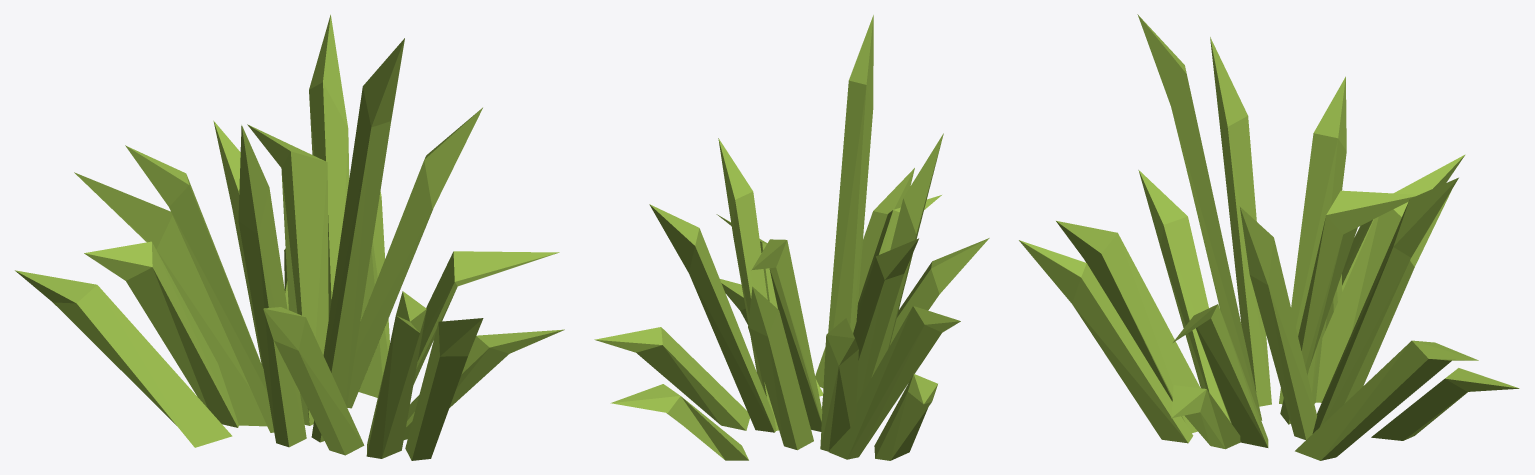
The model's file is Grass.fbx.
3 renders of one model, left to right at view 1: azimuth 30°, elevation 25°; view 2: azimuth 150°, elevation 25°; view 3: azimuth 270°, elevation 25°, orthographic. The views are drawn at different scales.
Parts seen in each view (by area): view 1: Grass; view 2: Grass; view 3: Grass.
Boxes of the visible parts, <box> form: Grass: <box>15,14,564,460</box>; Grass: <box>594,15,989,460</box>; Grass: <box>1019,14,1519,460</box>.
Bounding box in the file's own units: 111 × 116 × 129.
